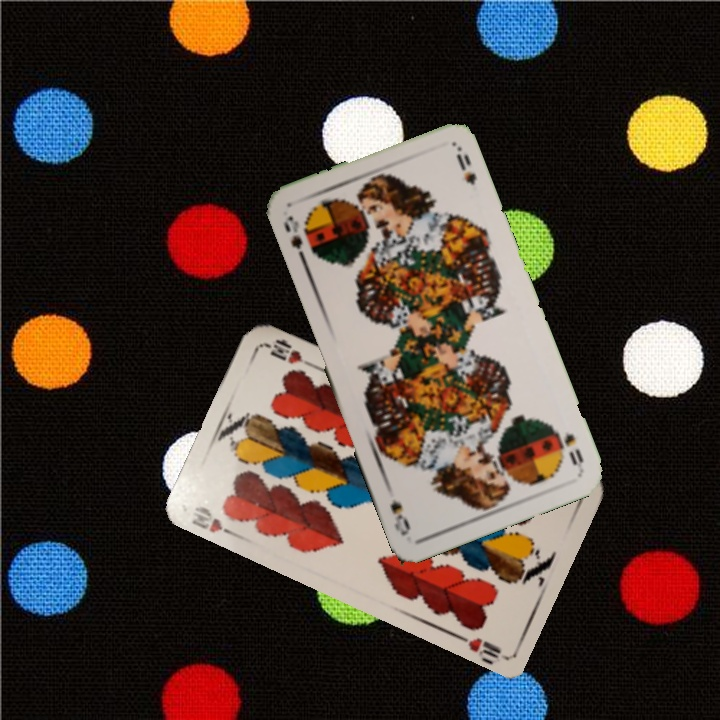H10: (187, 502, 241, 540)
SO: (279, 211, 309, 268), (552, 426, 586, 471)
